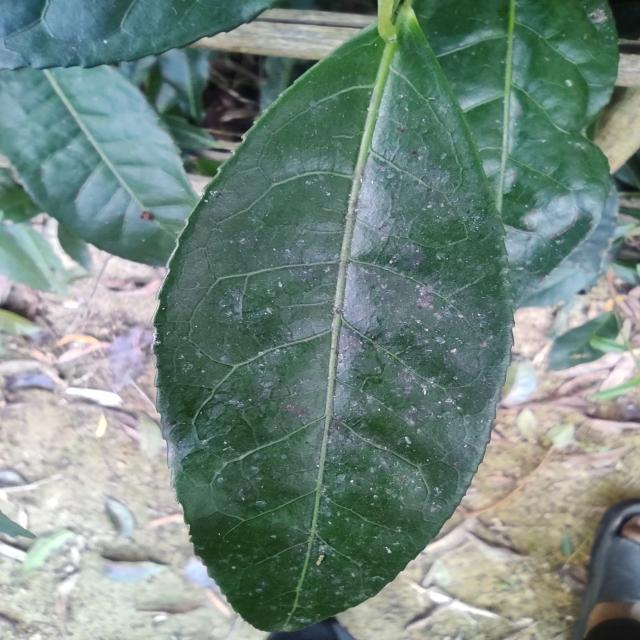Category D(7+ days, Not for Tea): (140, 8, 522, 632)
